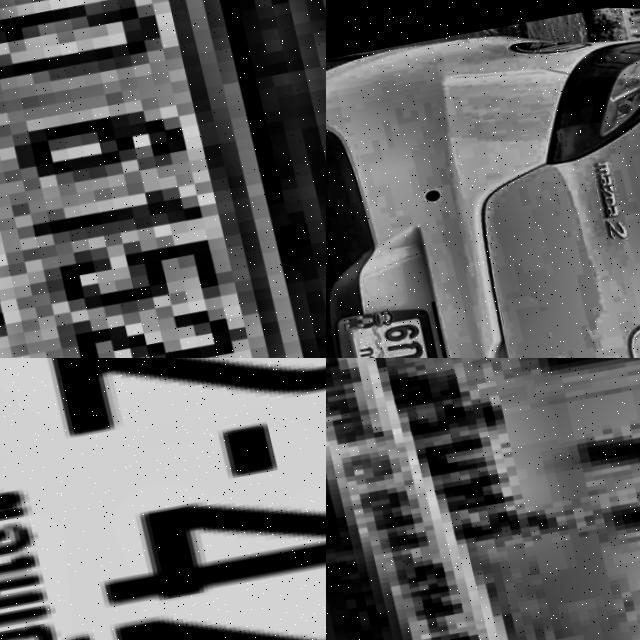license-plate: (0, 0, 326, 358), (0, 358, 326, 640), (326, 358, 640, 640), (326, 296, 472, 358)
